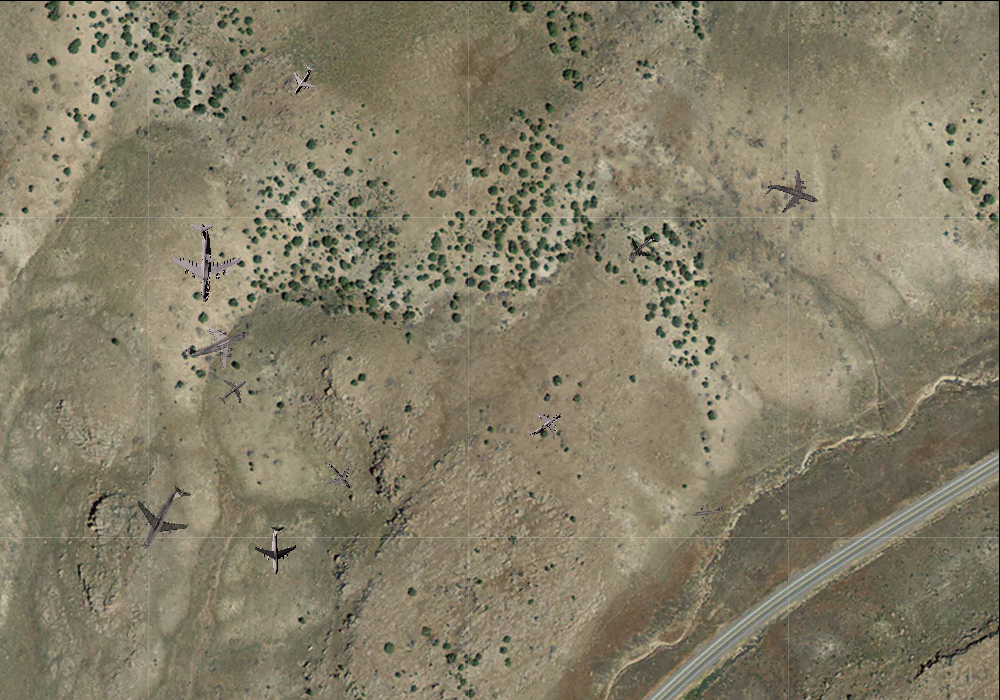plane: (117, 471, 209, 566), (172, 301, 259, 383), (164, 221, 243, 303), (758, 160, 826, 226), (519, 398, 572, 451), (252, 525, 300, 574), (618, 226, 664, 272), (317, 454, 360, 498), (211, 369, 254, 412), (282, 58, 323, 100), (690, 495, 724, 527)
